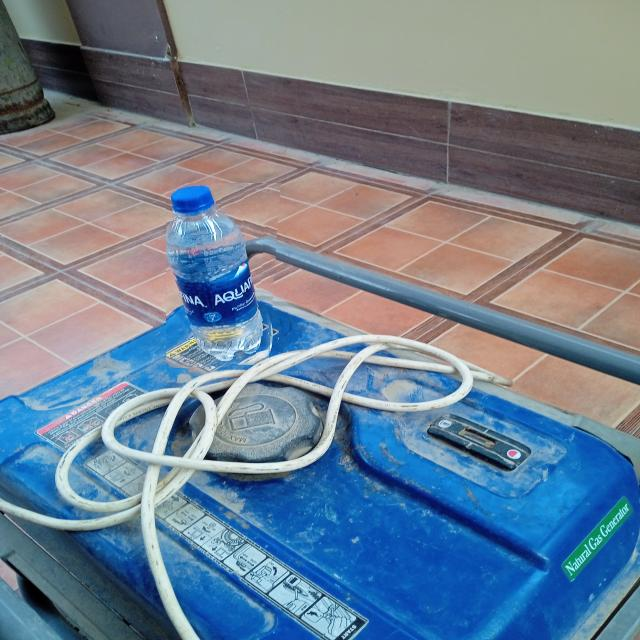Plastic: (166, 183, 281, 369)
